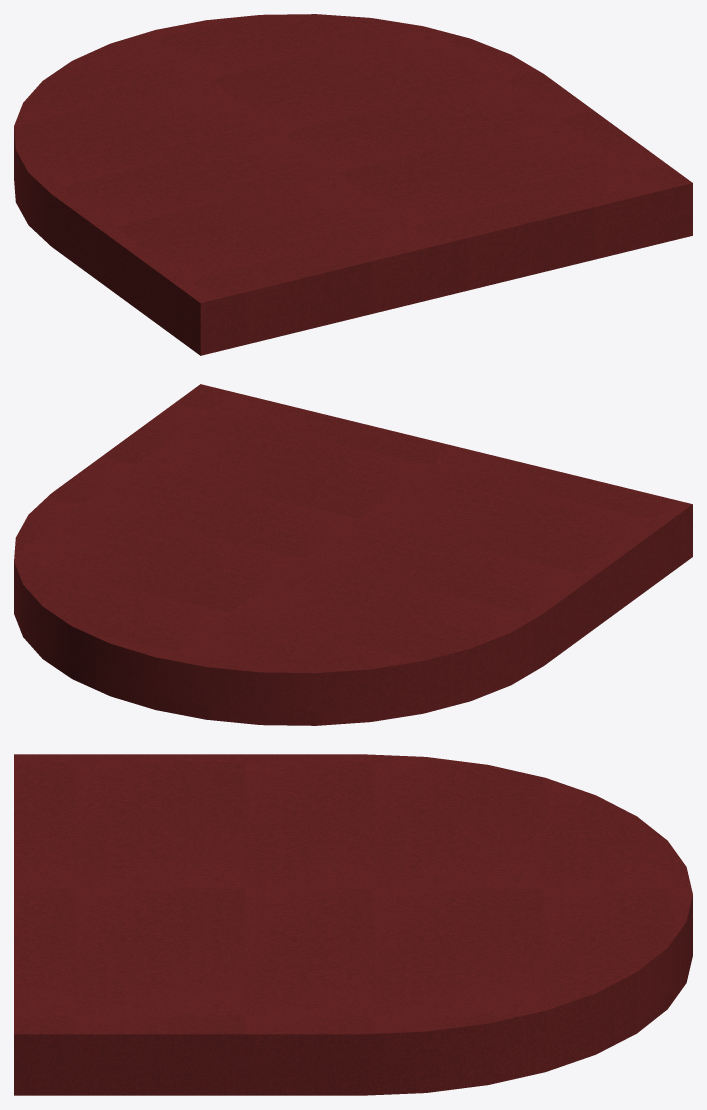
The model's file is club_scene.fbx.
3 renders of one model, top to bottom at view 1: azimuth 30°, elevation 25°; view 2: azimuth 150°, elevation 25°; view 3: azimuth 270°, elevation 25°, orthographic. The views are drawn at different scales.
Parts seen in each view (by area): view 1: Cylinder; view 2: Cylinder; view 3: Cylinder.
Boxes of the visible parts, x1=… form: Cylinder: x1=14, y1=14, x2=692, y2=355; Cylinder: x1=14, y1=384, x2=692, y2=725; Cylinder: x1=14, y1=754, x2=692, y2=1095.
Size of the model in its own units: 254 by 25.93 by 260.
Materials: 1 (1 with a texture image).
